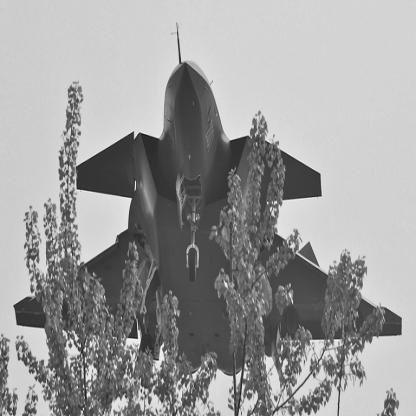J20: (14, 22, 404, 383)
